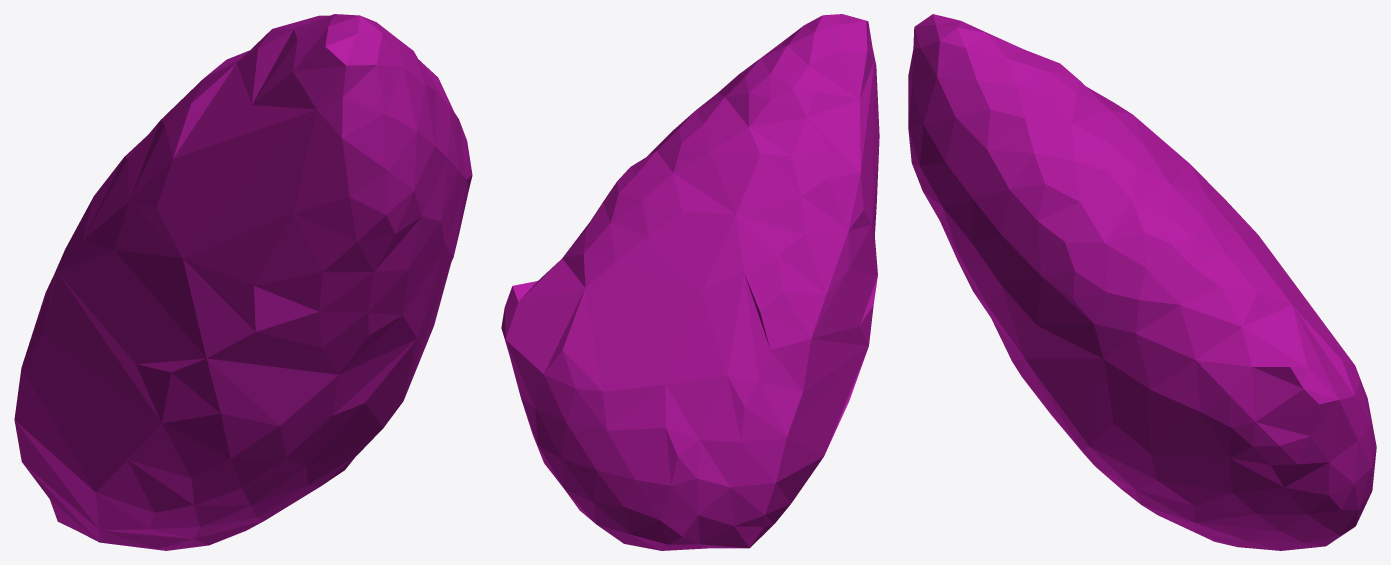
The model's file is Model_10589_LH__Prepositus_nucleus_(Pr).obj.
The picture shows the model from 3 angles, left to right: view 1: azimuth 30°, elevation 25°; view 2: azimuth 150°, elevation 25°; view 3: azimuth 270°, elevation 25°; orthographic projection. The views are drawn at different scales.
Size of the model in its own units: 0.6599 by 1.03 by 0.8633.
